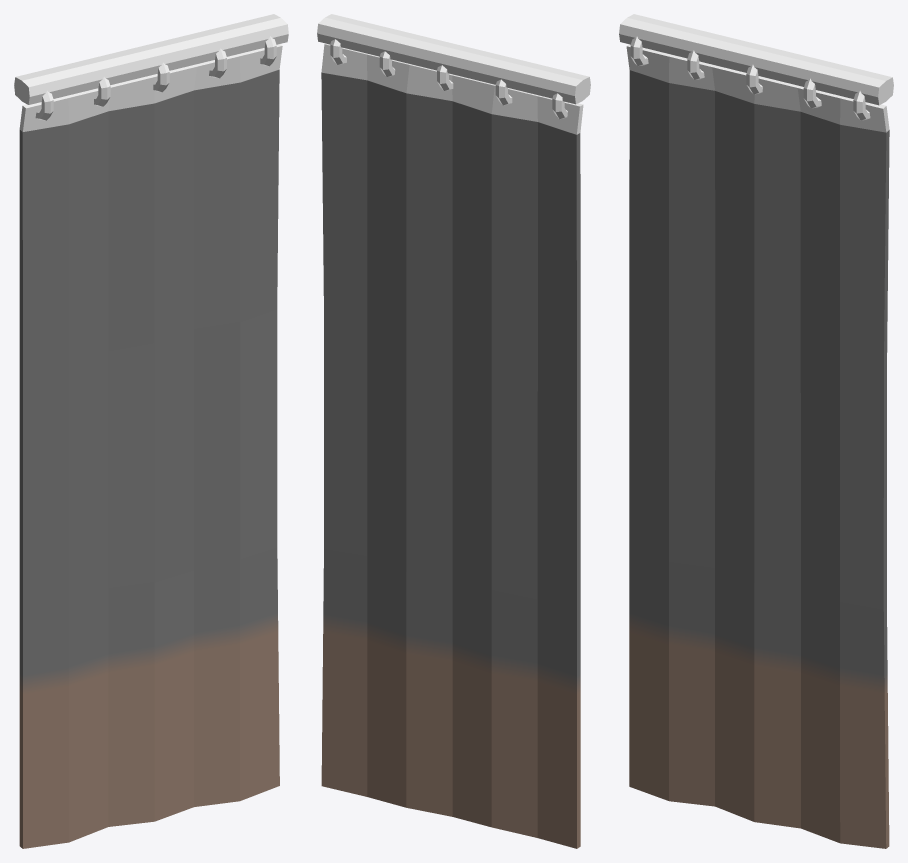
File: DesertDoorLeft.glb
The picture shows the model from 3 angles, left to right: view 1: azimuth 30°, elevation 25°; view 2: azimuth 150°, elevation 25°; view 3: azimuth 330°, elevation 25°; orthographic projection.
Parts seen in each view (by area): view 1: DesertDoorL; view 2: DesertDoorL; view 3: DesertDoorL.
Part boxes in pixels (bbox=[...]): DesertDoorL: bbox=[14, 14, 288, 848]; DesertDoorL: bbox=[317, 14, 590, 848]; DesertDoorL: bbox=[619, 14, 893, 848].
Bounding box in the file's own units: 1.21 × 3.44 × 0.1693.
1 material, 1 textured.
